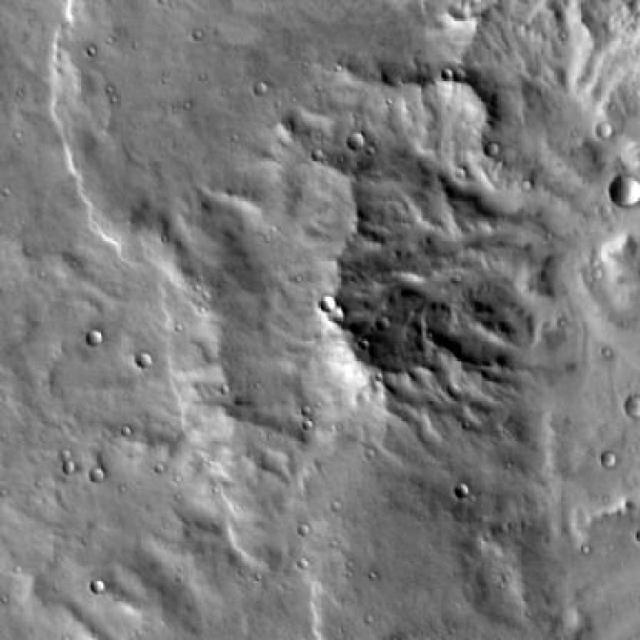crater: (358, 134, 376, 152), (90, 592, 107, 608), (608, 124, 624, 141), (96, 332, 113, 348), (612, 455, 628, 470)
